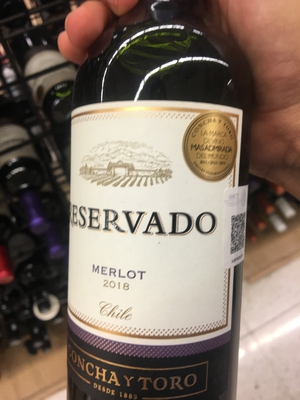reservado merlot: (52, 21, 267, 400)
